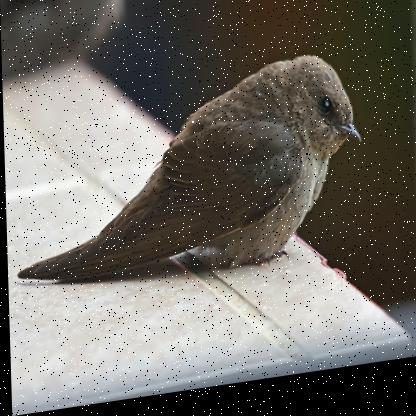Burung: (13, 58, 364, 301)
